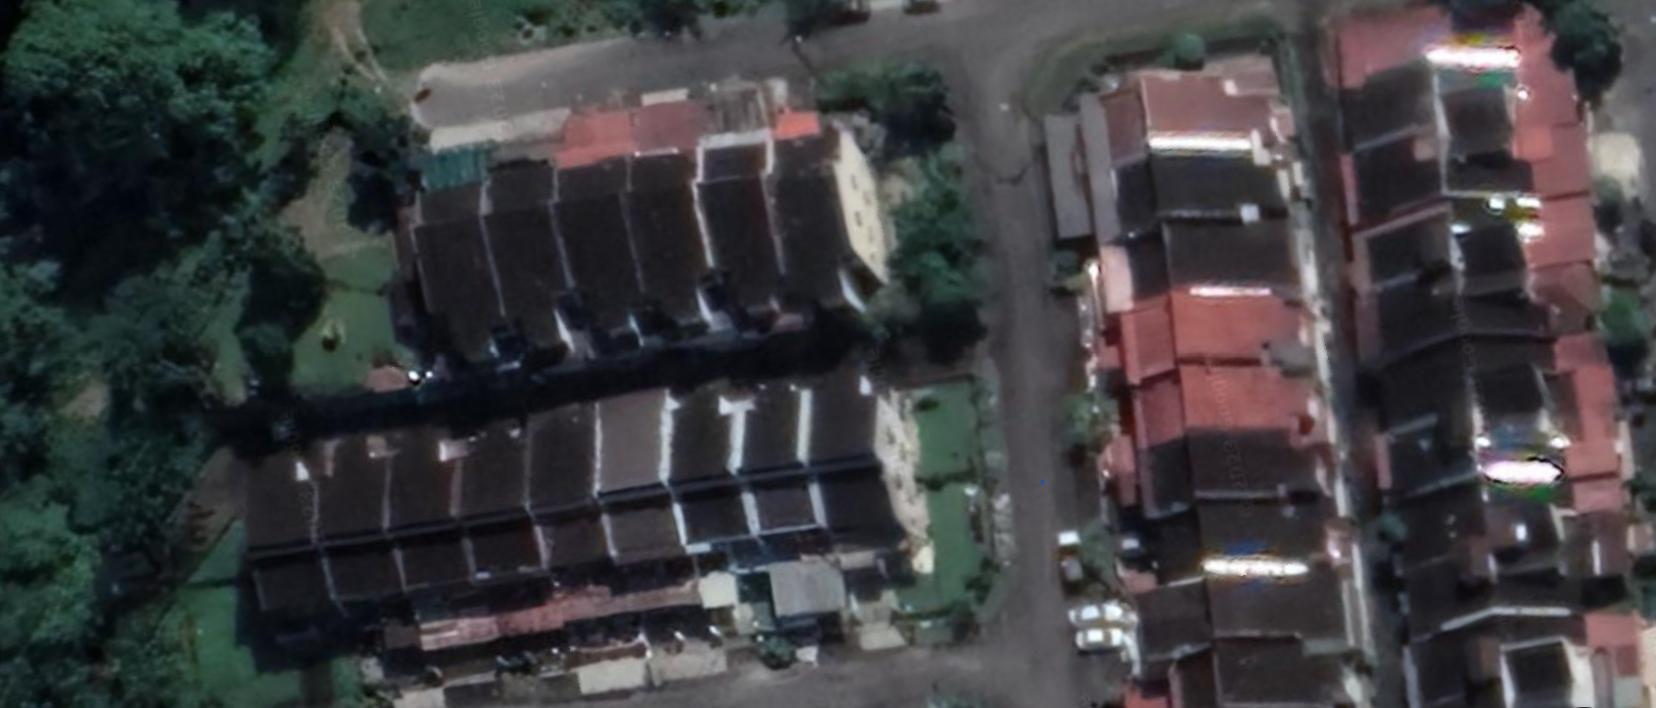building: (1328, 2, 1592, 163), (1032, 45, 1314, 188), (1358, 332, 1628, 452), (1382, 479, 1653, 588), (386, 127, 509, 367), (1350, 265, 1610, 378), (752, 371, 859, 631), (1045, 160, 1317, 262), (1343, 128, 1597, 237), (701, 67, 800, 344), (678, 375, 779, 645), (1069, 227, 1325, 332), (562, 99, 661, 366), (1363, 416, 1632, 512), (1083, 301, 1332, 404), (1393, 553, 1647, 652), (1350, 201, 1602, 300), (398, 420, 499, 666), (632, 85, 725, 349), (1082, 367, 1332, 464), (1108, 503, 1362, 598), (1120, 580, 1361, 679), (468, 404, 565, 649), (534, 391, 630, 636), (608, 378, 702, 627), (1085, 439, 1343, 529), (775, 99, 873, 329), (1398, 620, 1648, 708), (238, 432, 346, 633), (496, 125, 582, 374), (819, 369, 922, 557), (326, 427, 414, 615), (1161, 644, 1354, 708)
